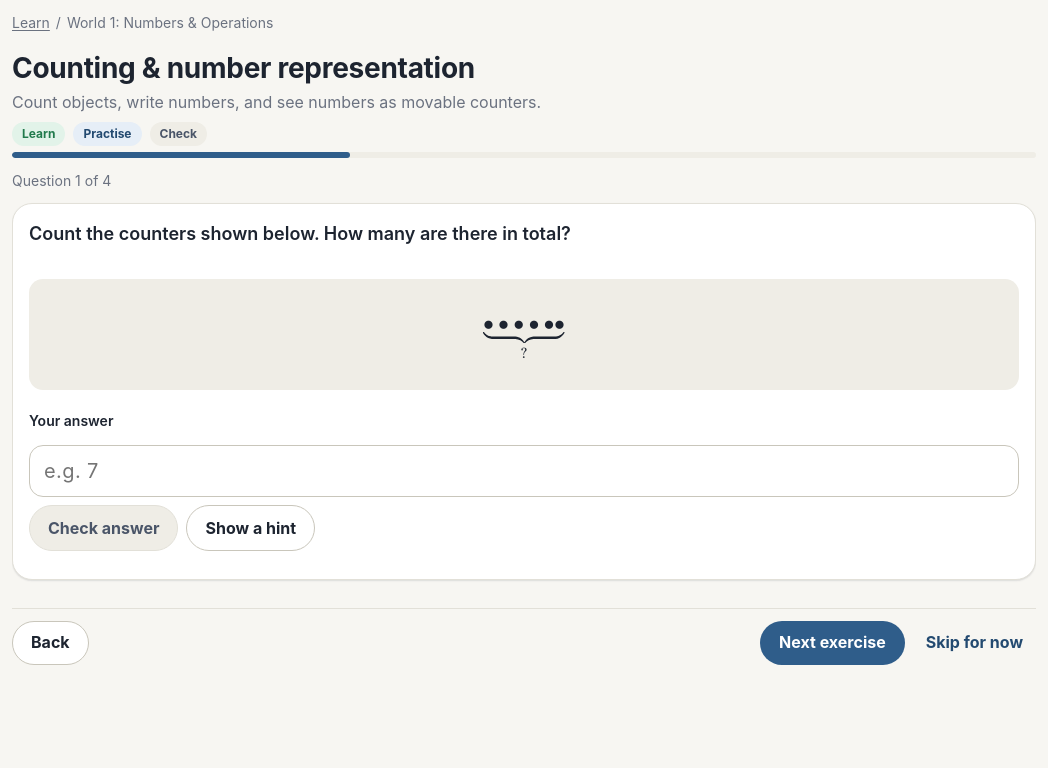
a progress write that fails (defect B) › a double-submitted answer records exactly one attempt
Type "6" into the field with test id "answer-input" at (524, 471), box [29,445,1019,497]
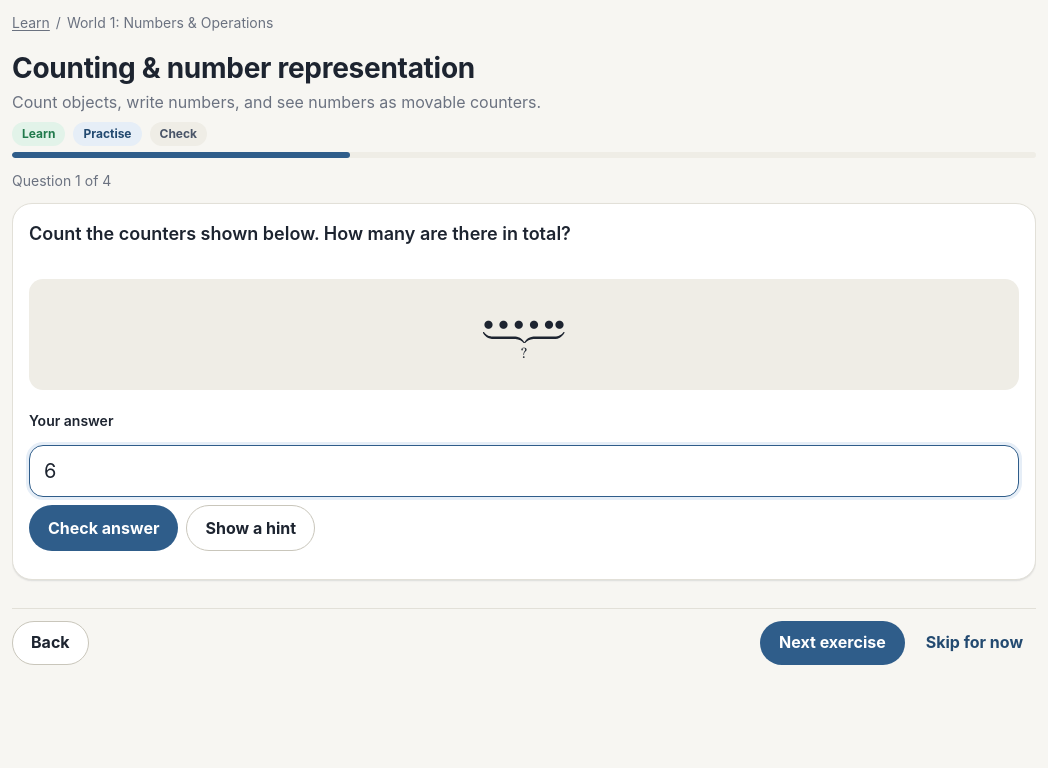
Double-click the button with test id "submit-answer" at (104, 528), box [29,505,178,551]
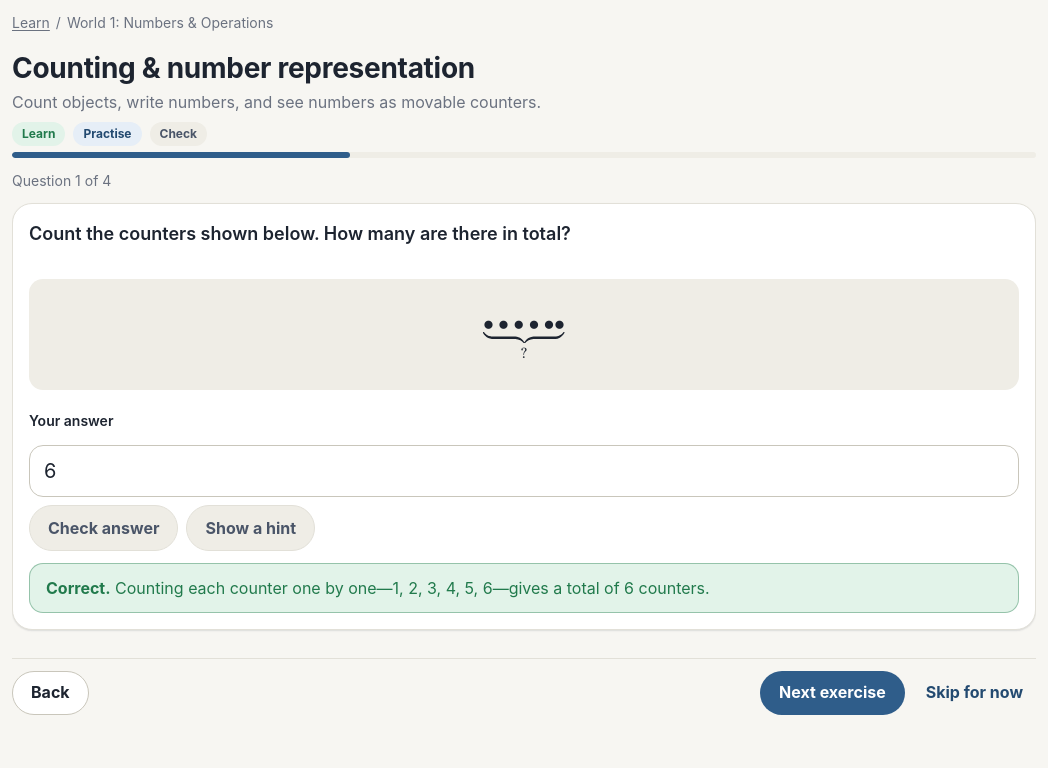
Check: the message with test id "feedback-correct" is shown, box [29,563,1019,613]
